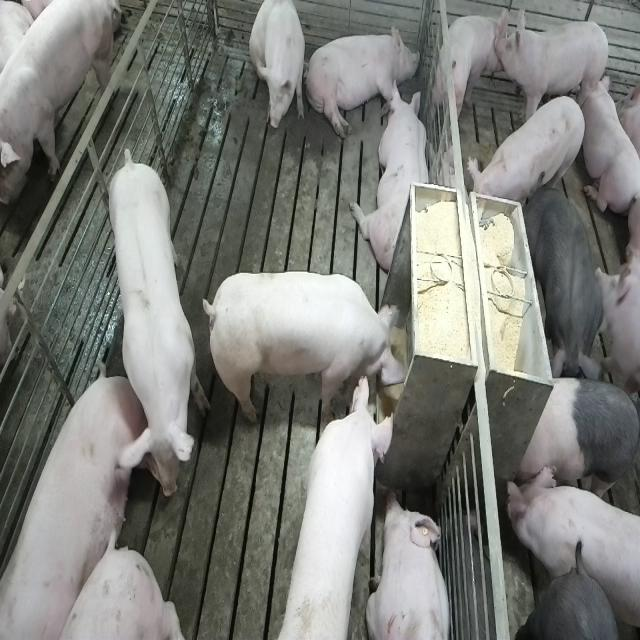Feeding: (200, 276, 407, 429), (277, 366, 393, 633)
Lateral_lying: (304, 21, 419, 141)
Sitting: (248, 1, 306, 143)
Standing: (103, 144, 206, 496), (0, 0, 117, 206), (505, 458, 638, 639), (515, 375, 638, 508), (524, 186, 604, 383), (472, 95, 590, 215), (494, 17, 612, 130), (436, 16, 508, 132), (522, 568, 626, 638)
Sternal_lying: (353, 78, 432, 274), (368, 493, 455, 640), (579, 71, 637, 220)
